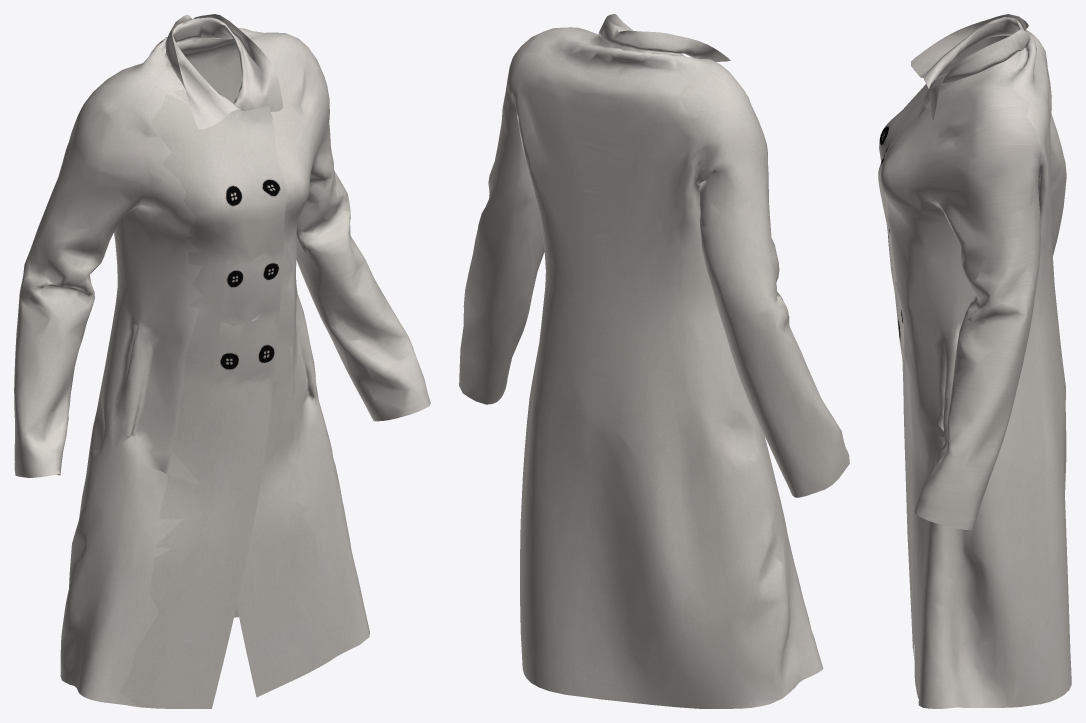
Rendered from 137583 OVER JACKET REPLAY.fbx.
The picture shows the model from 3 angles, left to right: view 1: azimuth 30°, elevation 25°; view 2: azimuth 150°, elevation 25°; view 3: azimuth 270°, elevation 25°; orthographic projection. The views are drawn at different scales.
Parts seen in each view (by area): view 1: 137583 OVER JACKET REPLAY; view 2: 137583 OVER JACKET REPLAY; view 3: 137583 OVER JACKET REPLAY.
Part boxes in pixels (<box>): 137583 OVER JACKET REPLAY: <box>14,14,430,708</box>; 137583 OVER JACKET REPLAY: <box>459,14,849,708</box>; 137583 OVER JACKET REPLAY: <box>878,14,1071,708</box>.
Size of the model in its own units: 64.13 by 103 by 27.86.
1 material, 1 textured.
